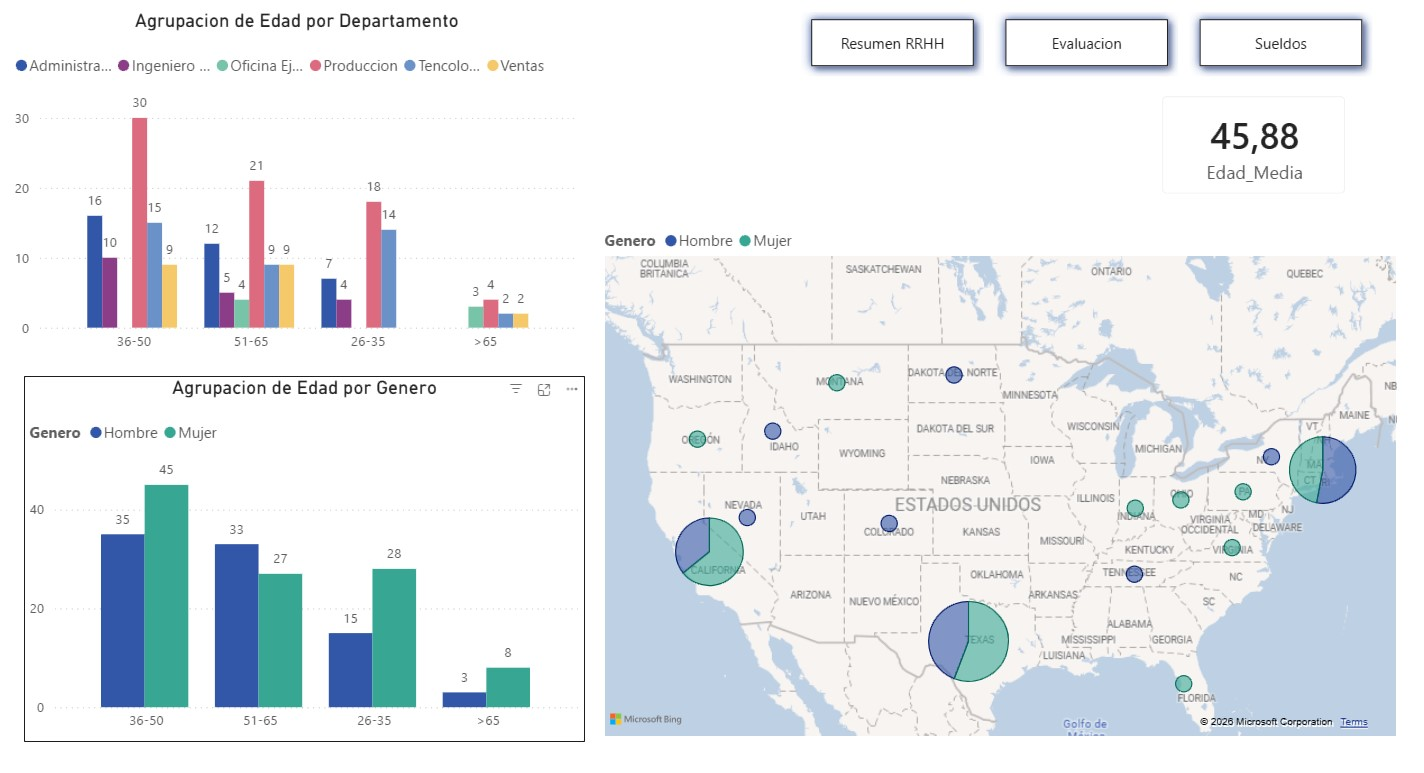

The dashboard page shown, as its layout file describes it:
{"tool":"powerbi","page":{"name":"Demografia","canvas":[1280,720],"ordinal":3},"visuals":[{"type":"clusteredColumnChart","title":"Agrupacion de Edad por Genero","fields":{"Category":["Tabla1_2.Edad_Grupo"],"Y":["Tabla1_2.Empleados"],"Series":["Tabla1_2.Genero"]},"box":[31.7,346.8,499.7,325.4],"z":0},{"type":"map","fields":{"Category":["Tabla1_2.Estado"],"Series":["Tabla1_2.Genero"],"Size":["Tabla1_2.Empleados"]},"box":[544.4,206,715,466.1],"z":1000},{"type":"cardVisual","fields":{"Data":["MEDIDAS.Edad_Media"]},"box":[1029,80.2,197.5,121.6],"z":2000},{"type":"clusteredColumnChart","title":"Agrupacion de Edad por Departamento","fields":{"Category":["Tabla1_2.Edad_Grupo"],"Y":["Tabla1_2.Empleados"],"Series":["Tabla1_2.Departamento"]},"box":[18.6,19.6,512.7,314.2],"z":3000},{"type":"pageNavigator","box":[724.6,19.6,509,60.6],"z":4000}]}

Visuals, with their boxes on the page's 1280x720 design canvas (x1, y1, x2, y2). These are canvas units, not pixel positions in the 1424x773 screenshot, which may show the page scaled, cropped or inside an application window:
"Agrupacion de Edad por Genero" clusteredColumnChart: <region>32, 347, 531, 672</region>
map - Tabla1_2.Estado x Tabla1_2.Genero: <region>544, 206, 1259, 672</region>
cardVisual - MEDIDAS.Edad_Media: <region>1029, 80, 1226, 202</region>
"Agrupacion de Edad por Departamento" clusteredColumnChart: <region>19, 20, 531, 334</region>
pageNavigator: <region>725, 20, 1234, 80</region>
